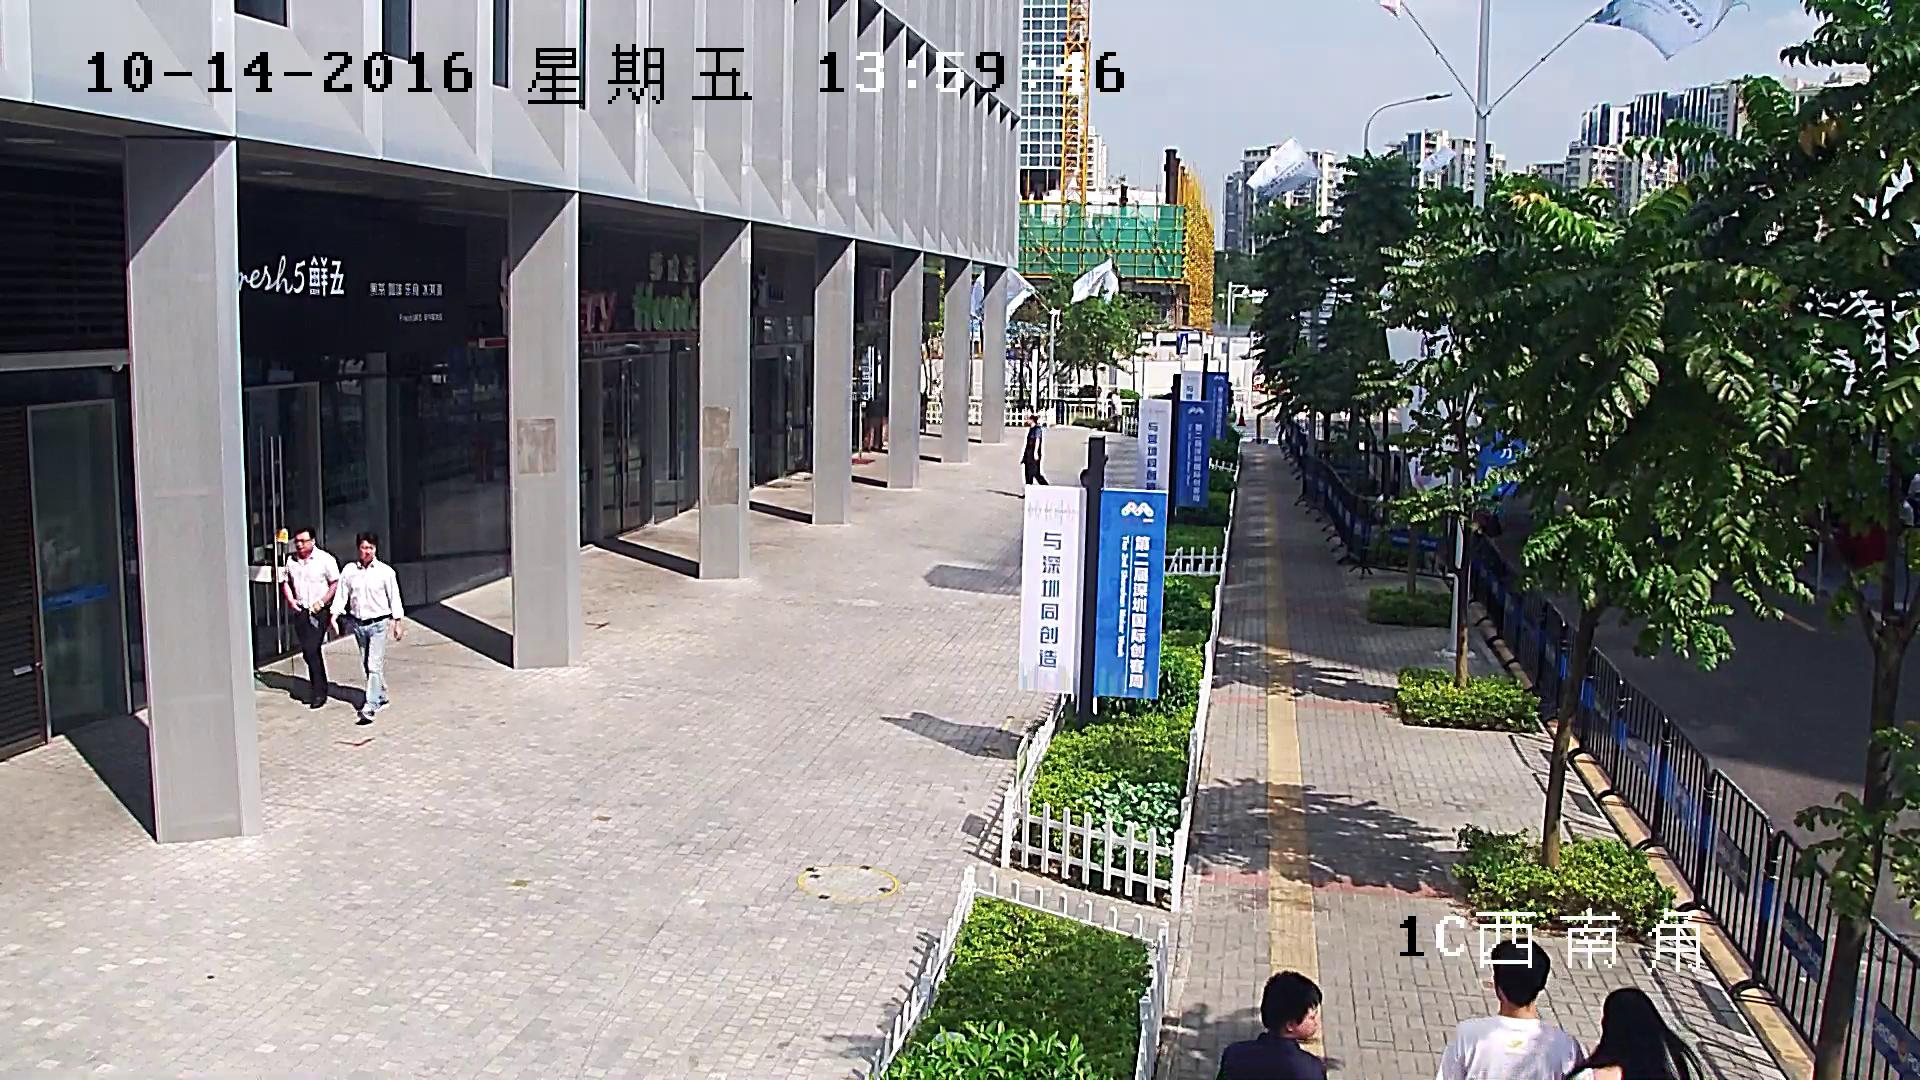person: (1435, 938, 1589, 1079), (329, 530, 403, 722), (1216, 969, 1327, 1080), (282, 526, 339, 708), (1021, 414, 1049, 498)
